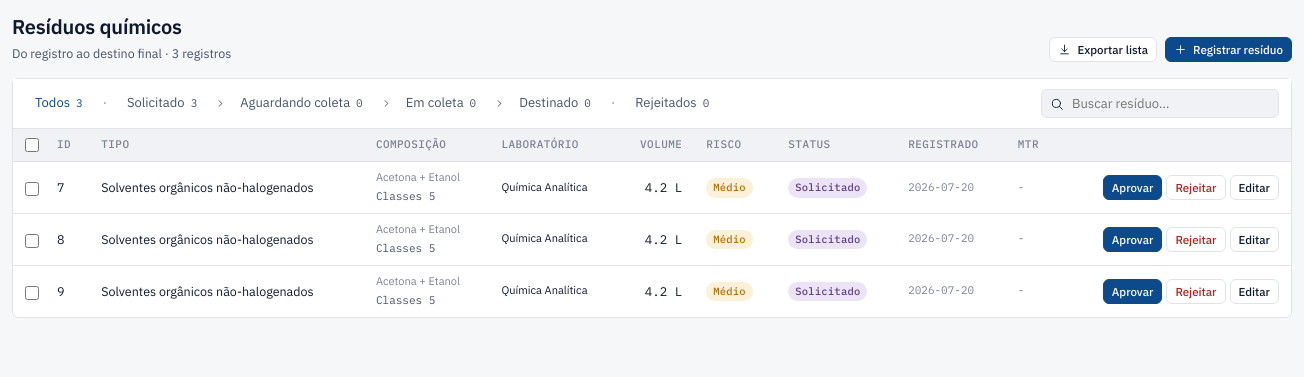
Scenario: ResiduosScreen — fila de aprovação › aprova em lote as solicitações selecionadas
Later steps or results of the test are not shown.
Click the checkbox named "Selecionar resíduo #7" at (32, 189), box [25,182,39,196]
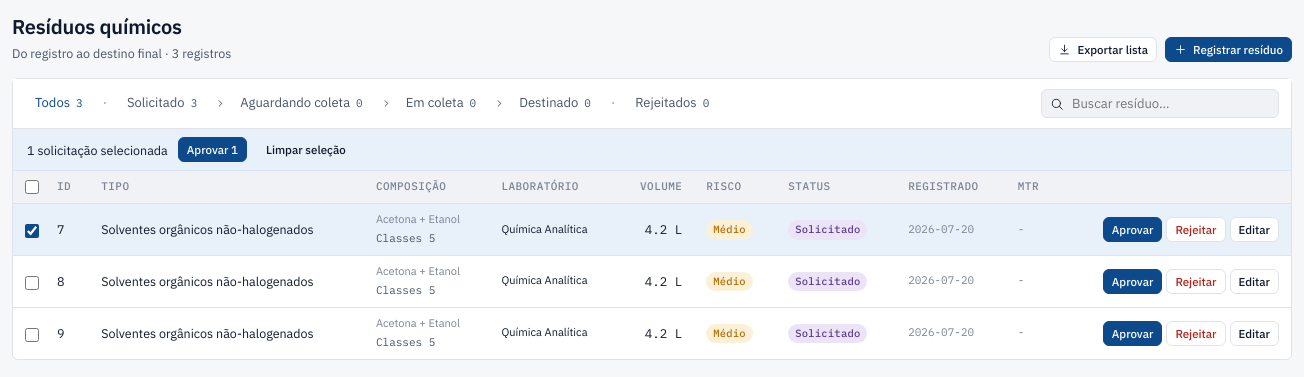
Click the checkbox named "Selecionar resíduo #9" at (32, 335), box [25,328,39,342]
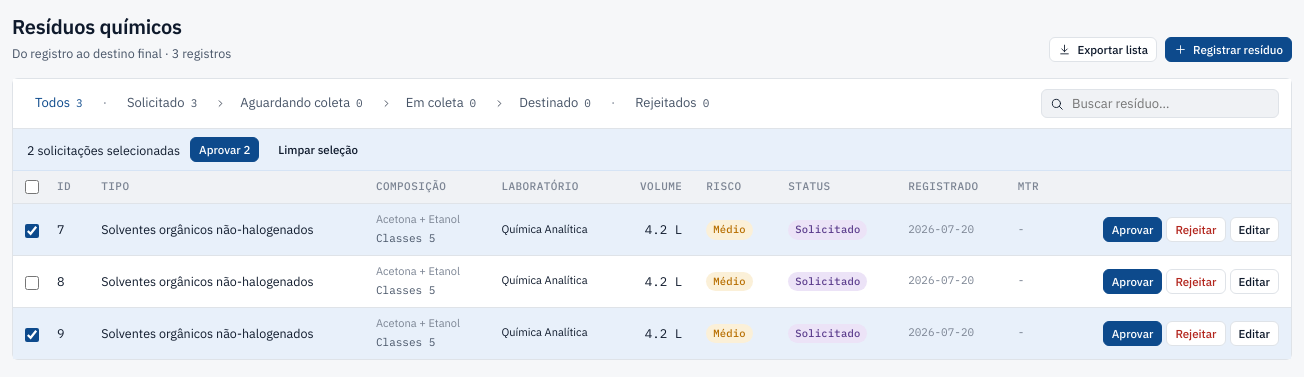
Check: the text "2 solicitações selecionadas" is shown, box [27,141,180,159]
